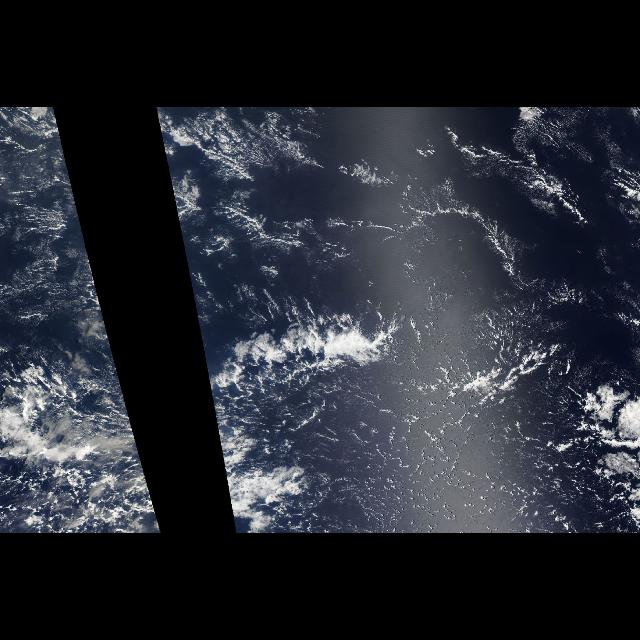Fish: (198, 270, 428, 442)
Gravel: (348, 406, 512, 530)
